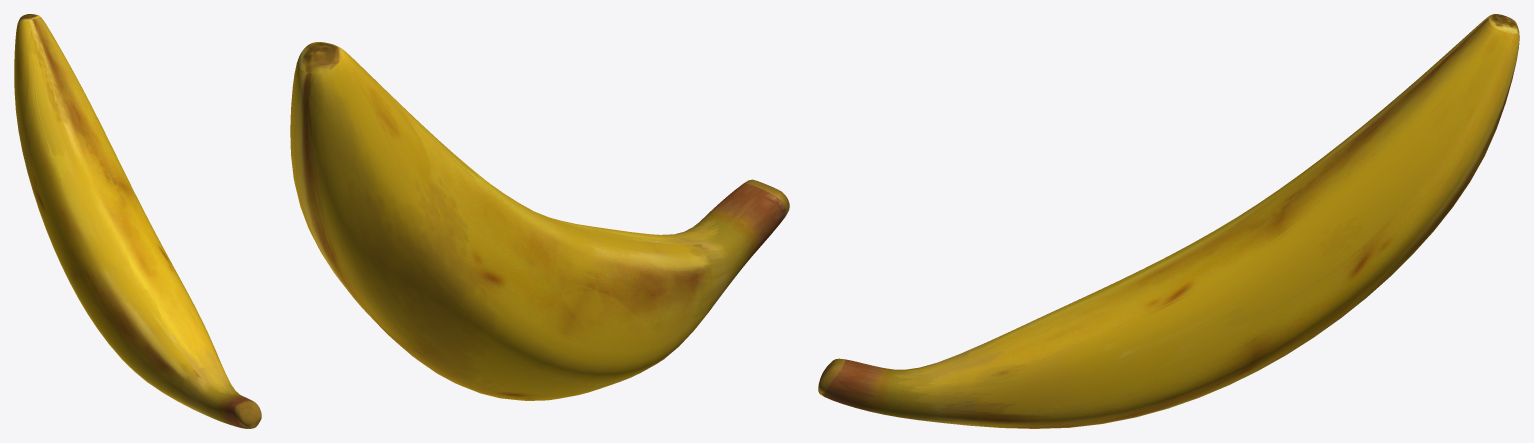
File: 10164_Banana_v01_it2.obj
3 renders of one model, left to right at view 1: azimuth 30°, elevation 25°; view 2: azimuth 150°, elevation 25°; view 3: azimuth 270°, elevation 25°, orthographic. The views are drawn at different scales.
Visible parts, largest first — view 1: 10164_Banana_v01; view 2: 10164_Banana_v01; view 3: 10164_Banana_v01.
Boxes of the visible parts, <box> form: 10164_Banana_v01: <box>14,14,261,428</box>; 10164_Banana_v01: <box>290,42,789,400</box>; 10164_Banana_v01: <box>818,14,1519,428</box>.
Size of the model in its own units: 32.71 by 106 by 165.
1 material, 1 textured.
